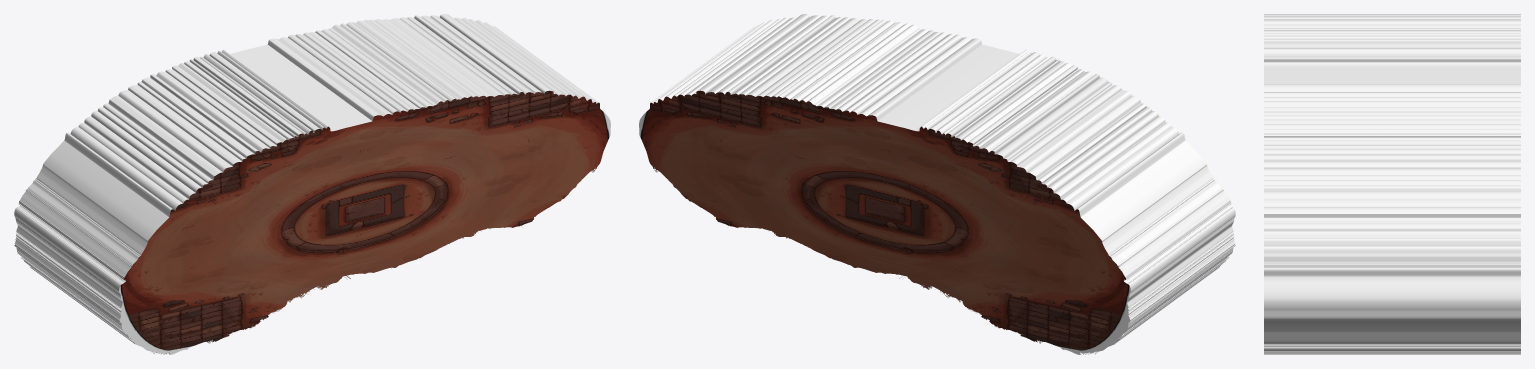
Rendered from Praia Vermelha.dae.
3 renders of one model, left to right at view 1: azimuth 30°, elevation 25°; view 2: azimuth 150°, elevation 25°; view 3: azimuth 270°, elevation 25°, orthographic. The views are drawn at different scales.
Visible parts, largest first — view 1: Camada_1; view 2: Camada_1; view 3: Camada_1.
Boxes of the visible parts, x1,y1,x2,y2 form: Camada_1: (14,14,610,354); Camada_1: (639,14,1235,354); Camada_1: (1264,14,1520,354).
Size of the model in its own units: 1397 by 516 by 516.
